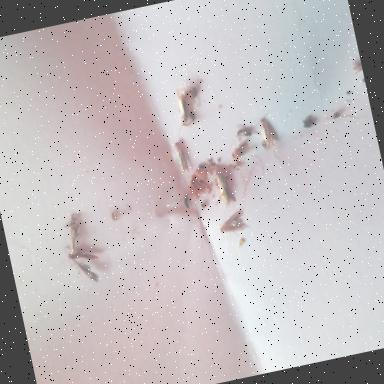pbw: (57, 210, 104, 288), (206, 164, 242, 210), (168, 87, 198, 142), (212, 210, 246, 246), (172, 140, 191, 180), (255, 113, 274, 148), (228, 138, 252, 158)
